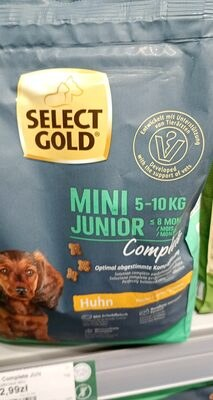Croquette: (11, 20, 202, 380)
